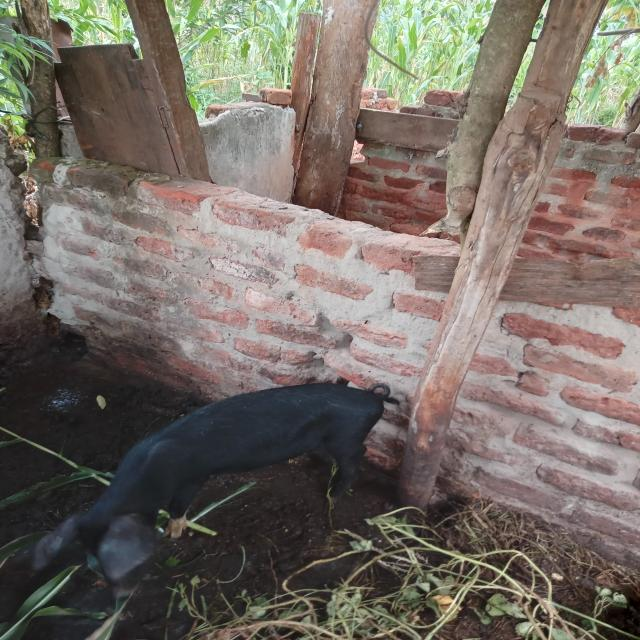pig: (21, 336, 439, 616)
